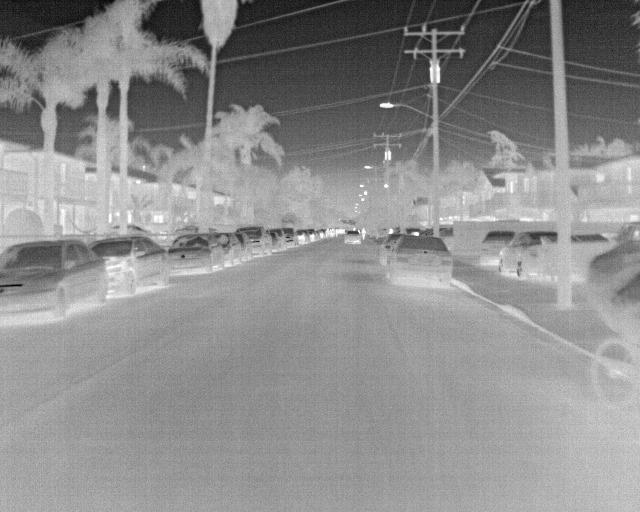bicycle: (592, 337, 638, 415)
car: (0, 241, 109, 326), (90, 236, 169, 301), (387, 236, 455, 288), (495, 232, 554, 279), (166, 232, 223, 274), (480, 230, 516, 267), (236, 225, 270, 257), (214, 232, 242, 265), (235, 230, 253, 260), (342, 228, 365, 245), (278, 227, 297, 245), (294, 229, 309, 244)
